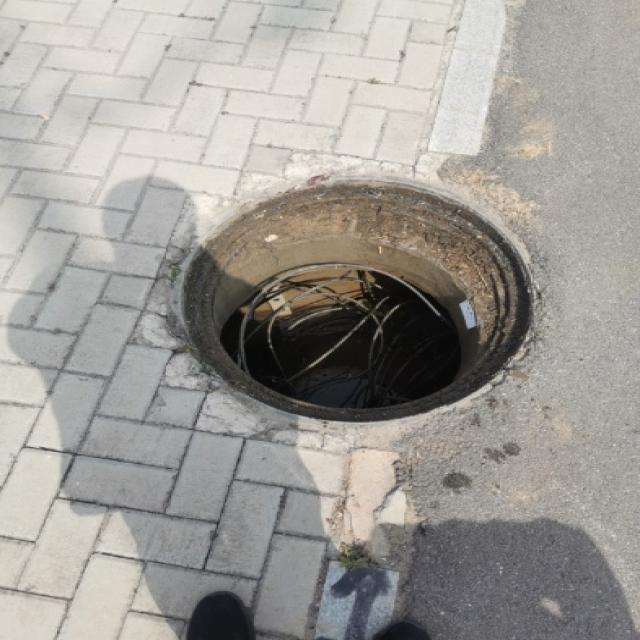Faulty: (144, 164, 564, 442)
